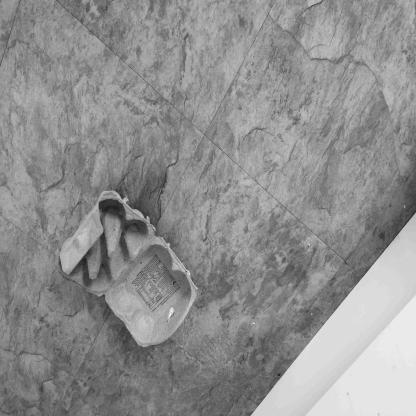cardboard: (52, 189, 199, 351)
